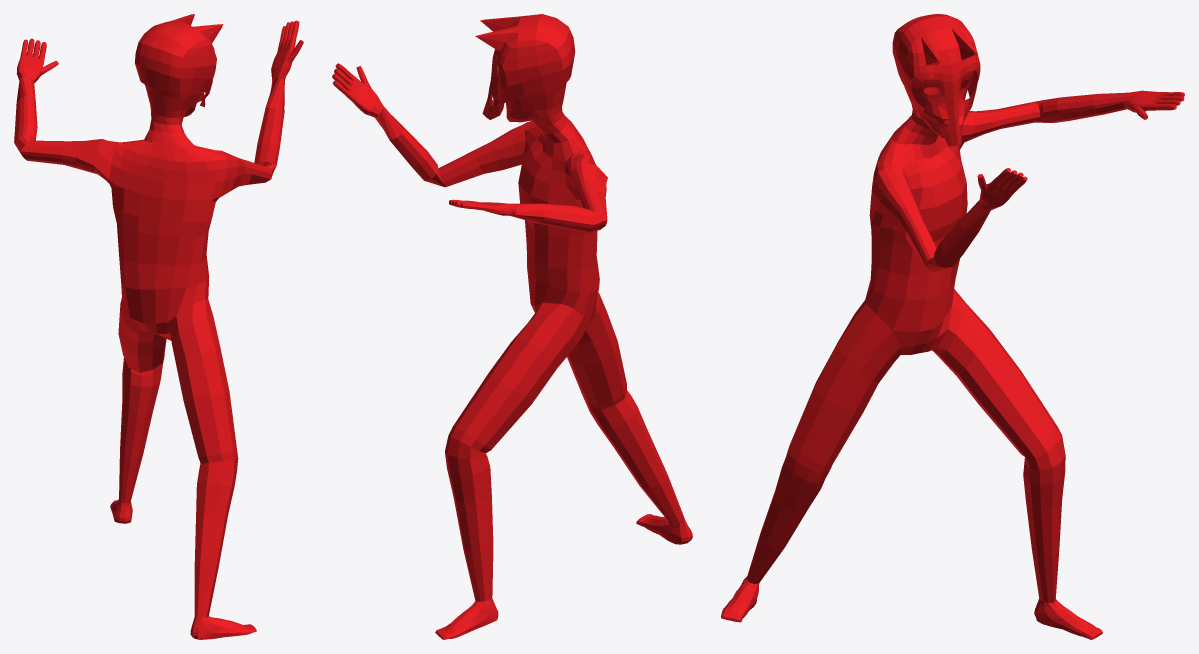
File: activaAlarma_000235.obj
3 renders of one model, left to right at view 1: azimuth 30°, elevation 25°; view 2: azimuth 150°, elevation 25°; view 3: azimuth 270°, elevation 25°, orthographic. The views are drawn at different scales.
Visible parts, largest first — view 1: Plane.002_Plane.001; view 2: Plane.002_Plane.001; view 3: Plane.002_Plane.001.
Part boxes in pixels (<box>): Plane.002_Plane.001: <box>14,14,303,639</box>; Plane.002_Plane.001: <box>332,14,692,639</box>; Plane.002_Plane.001: <box>721,14,1184,639</box>.
Bounding box in the file's own units: 3.49 × 6.73 × 4.62.
